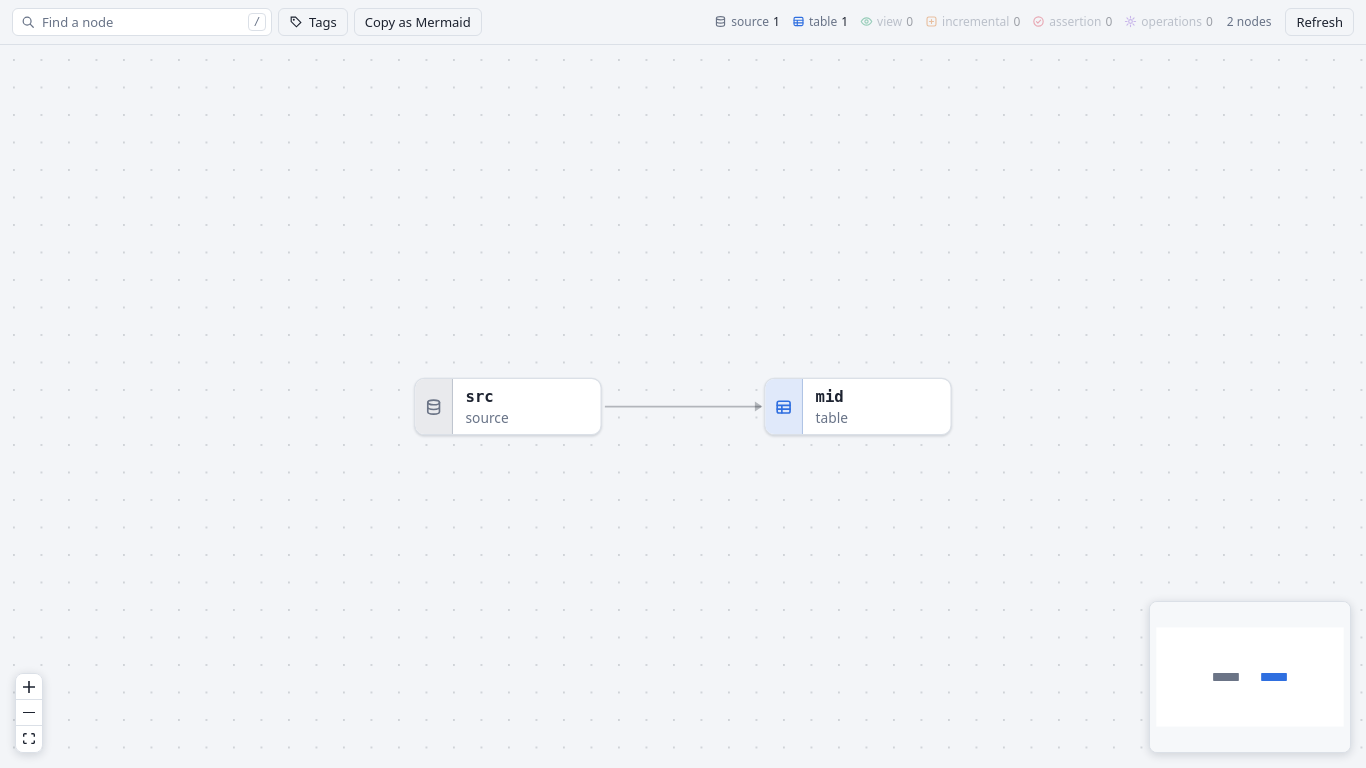
Test: node search › reports no match rather than an empty menu
The image size is (1366, 768).
Expected: the text "2 nodes" is shown, [1227, 14, 1271, 30]
Type "zzz" into the dropdown labelled "Find a node" at (142, 22), box [12, 8, 272, 36]
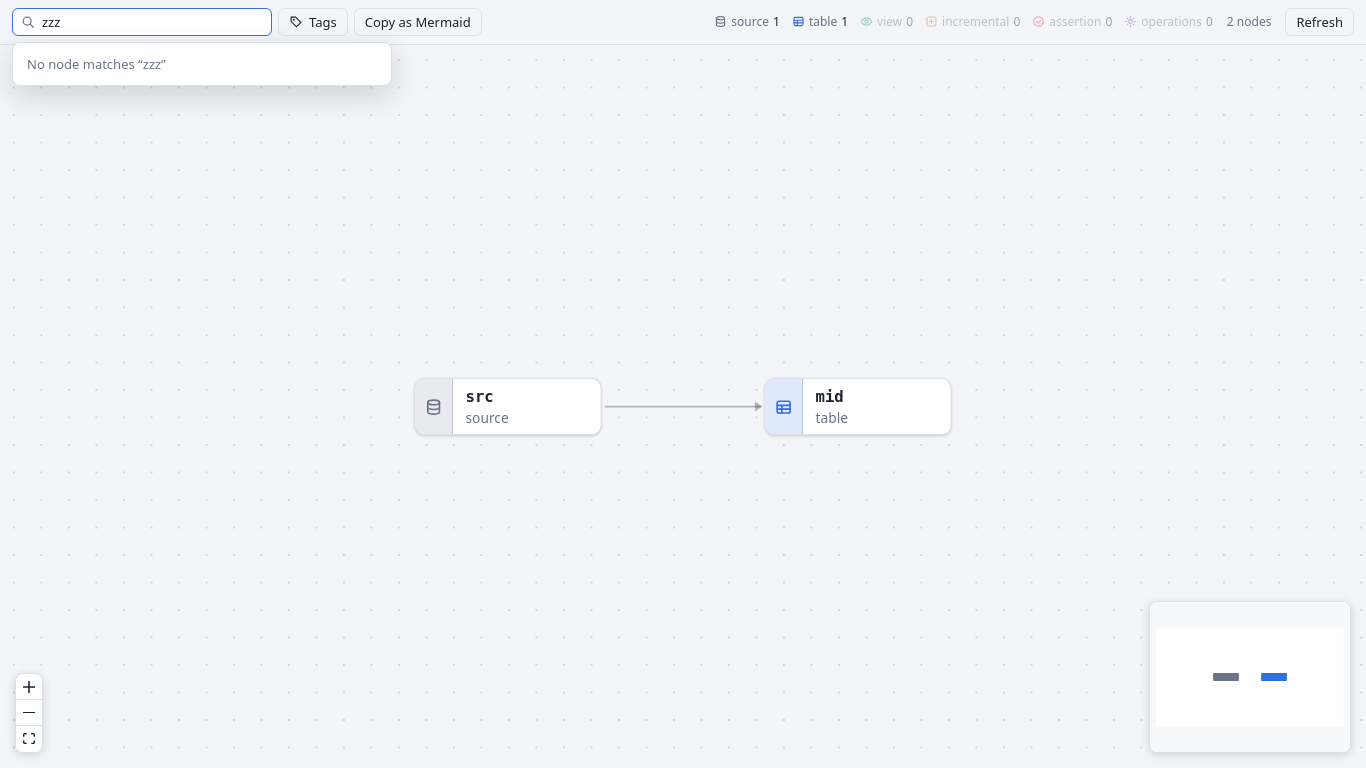
Now the list item "No node matches “zzz”" is shown, box [27, 55, 166, 73]
